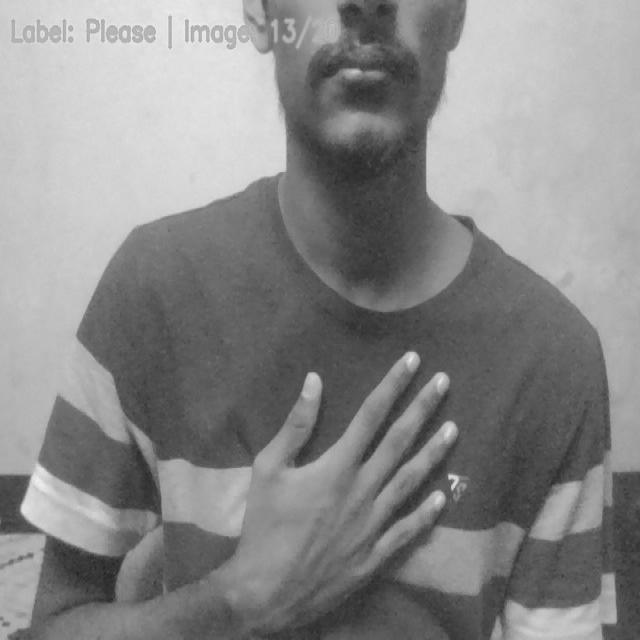Please: (215, 352, 457, 640)
